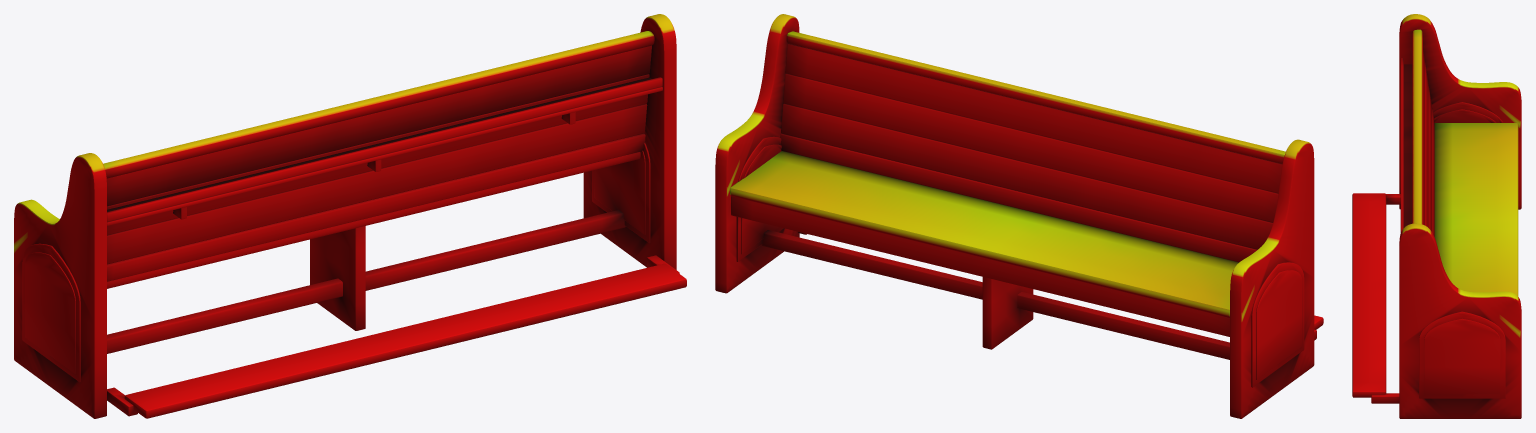
The model's file is pew.glb.
3 renders of one model, left to right at view 1: azimuth 30°, elevation 25°; view 2: azimuth 150°, elevation 25°; view 3: azimuth 270°, elevation 25°, orthographic. The views are drawn at different scales.
Visible parts, largest first — view 1: Pew; view 2: Pew; view 3: Pew.
Boxes of the visible parts, x1=… form: Pew: x1=14, y1=14, x2=686, y2=418; Pew: x1=715, y1=14, x2=1323, y2=418; Pew: x1=1352, y1=14, x2=1521, y2=418.
Size of the model in its own units: 2.42 by 1 by 0.8.
